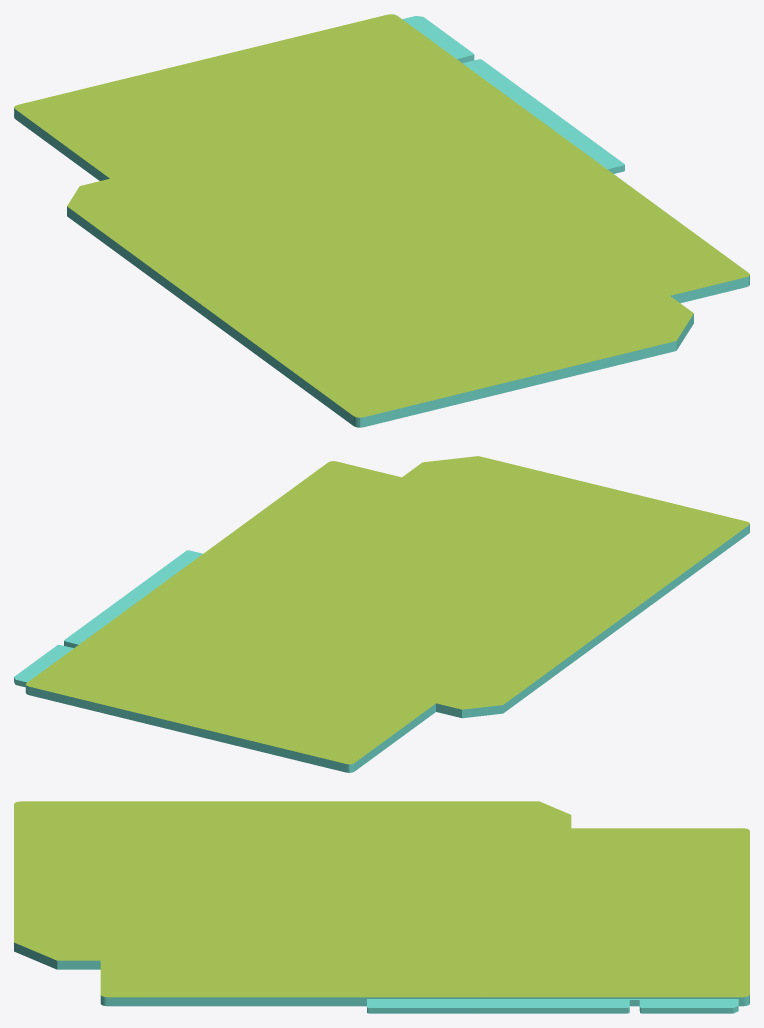
File: PCI_Board_F.fbx
3 views of the same model, one above another, from view 1: azimuth 30°, elevation 25°; view 2: azimuth 150°, elevation 25°; view 3: azimuth 270°, elevation 25° (orthographic). The views are drawn at different scales.
Parts seen in each view (by area): view 1: PCI_Board_F; view 2: PCI_Board_F; view 3: PCI_Board_F.
Part boxes in pixels (bbox=[...]): PCI_Board_F: bbox=[14, 14, 749, 427]; PCI_Board_F: bbox=[14, 456, 749, 772]; PCI_Board_F: bbox=[14, 801, 749, 1013].
Size of the model in its own units: 48.49 by 1 by 73.67.
